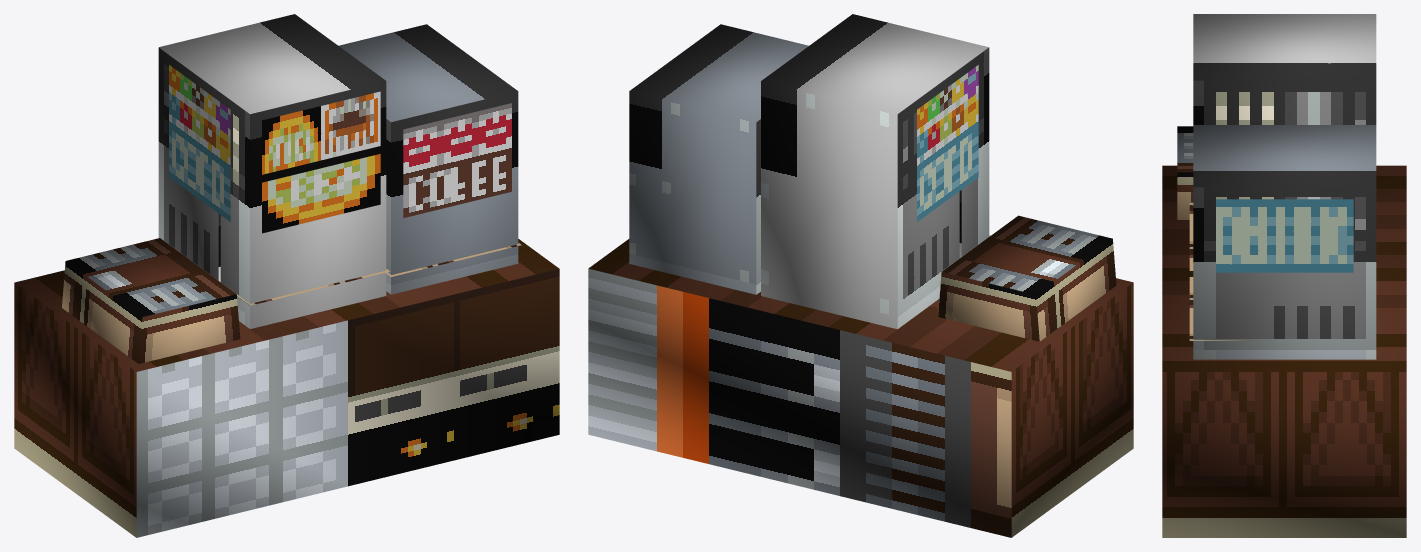
3 views of the same model, side by side, from view 1: azimuth 30°, elevation 25°; view 2: azimuth 150°, elevation 25°; view 3: azimuth 270°, elevation 25° (orthographic).
Parts seen in each view (by area): view 1: 3333IMIG11_02; view 2: 3333IMIG11_02; view 3: 3333IMIG11_02.
Boxes of the visible parts, x1,y1,x2,y2 form: 3333IMIG11_02: (14, 14, 559, 537); 3333IMIG11_02: (588, 14, 1133, 537); 3333IMIG11_02: (1162, 14, 1406, 537).
Size of the model in its own units: 1.9 by 1.63 by 0.9502.
Materials: 5 (5 with a texture image).
